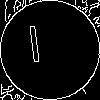I: (25, 25, 45, 72)
